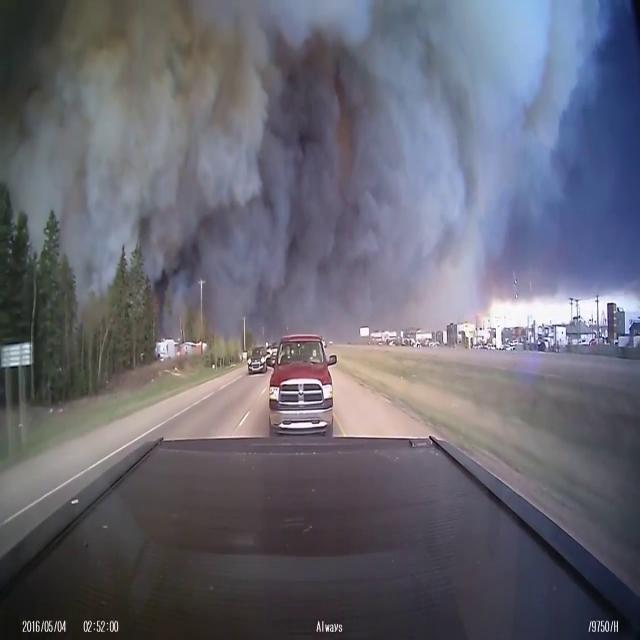Smoke: (65, 1, 518, 323)
